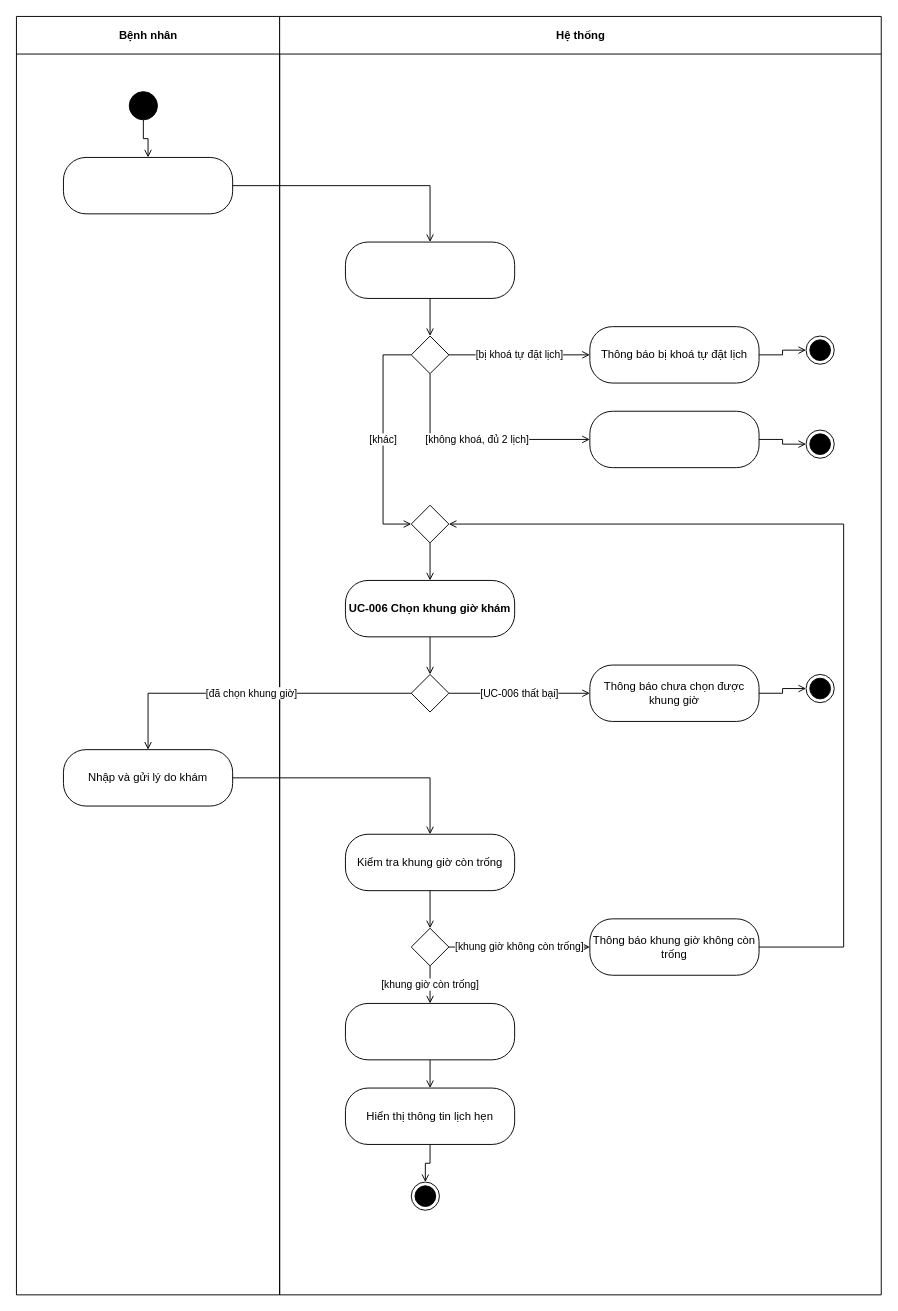
The diagram is 898 pixels wide and 1311 high, and some of its shapes have lost their labels. The shapes that lost their labels are listed below. From the top down, each one's box as (x1, y1, x2, y2) in pixels, then its label:
(63, 157, 233, 214): Yêu cầu đặt lịch khám
(345, 241, 515, 298): Kiểm tra trạng thái khoá và số lịch hẹn chưa diễn ra
(589, 410, 759, 468): Thông báo đã có đủ 2 lịch hẹn chưa diễn ra
(345, 1003, 515, 1060): Tạo lịch hẹn "Chờ xác nhận"
